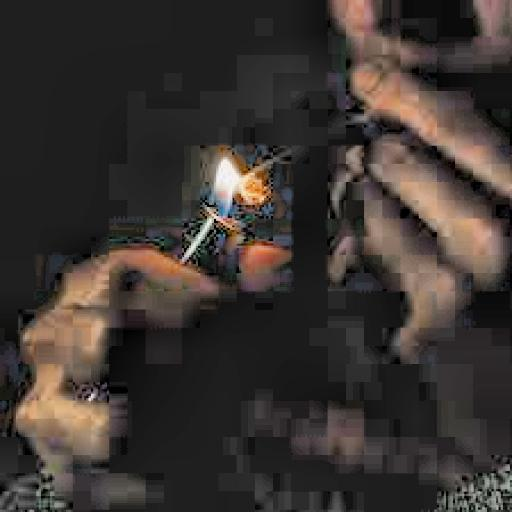fire: (203, 148, 248, 223)
